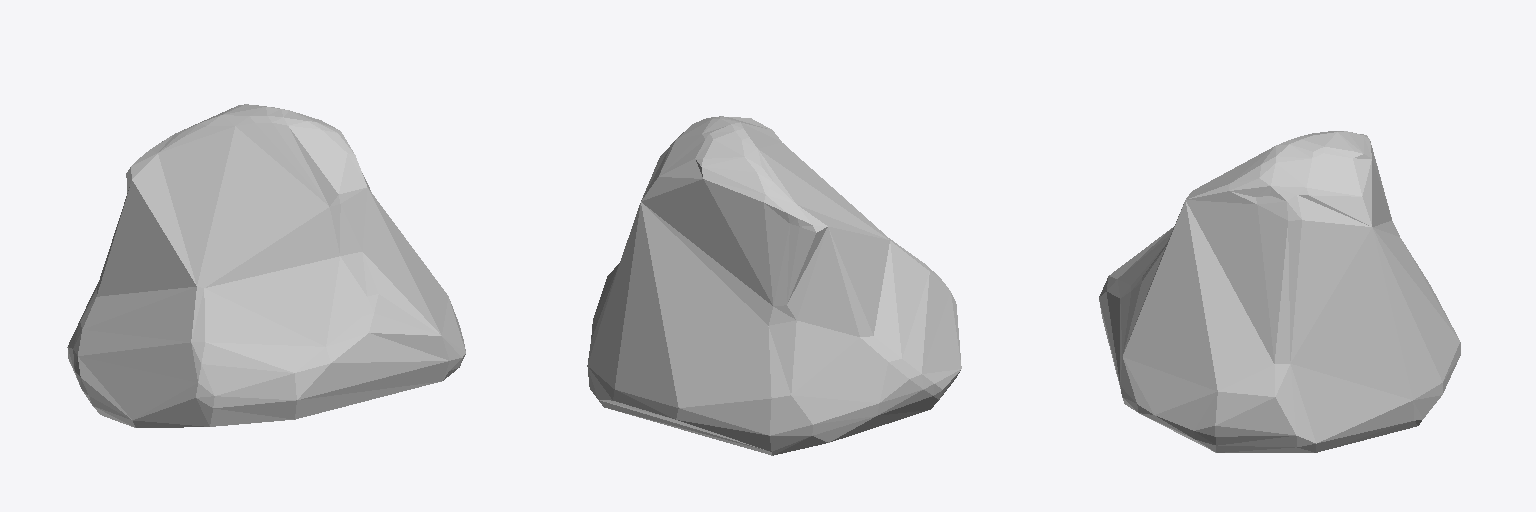
Rendered from Rock3.obj.
The picture shows the model from 3 angles: view 1: azimuth 30°, elevation 25°; view 2: azimuth 150°, elevation 25°; view 3: azimuth 270°, elevation 25°; orthographic projection.
Parts seen in each view (by area): view 1: Cube_Cube.001; view 2: Cube_Cube.001; view 3: Cube_Cube.001.
Boxes of the visible parts, <box> form: Cube_Cube.001: <box>67,104,465,427</box>; Cube_Cube.001: <box>587,116,961,455</box>; Cube_Cube.001: <box>1099,131,1460,452</box>.
Bounding box in the file's own units: 3.17 × 2.26 × 2.91.